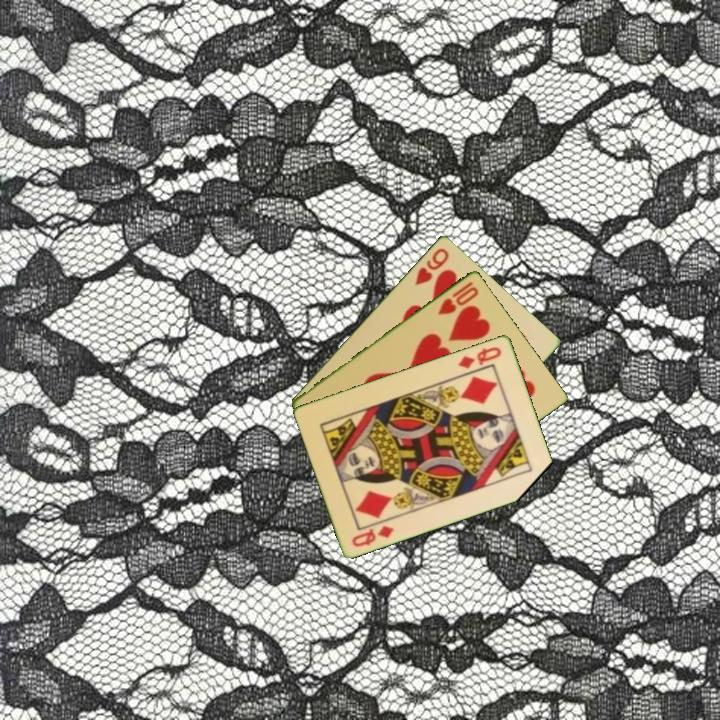10h: (434, 277, 481, 317)
9h: (411, 244, 452, 288)
Qd: (455, 343, 504, 371), (348, 521, 397, 549)
